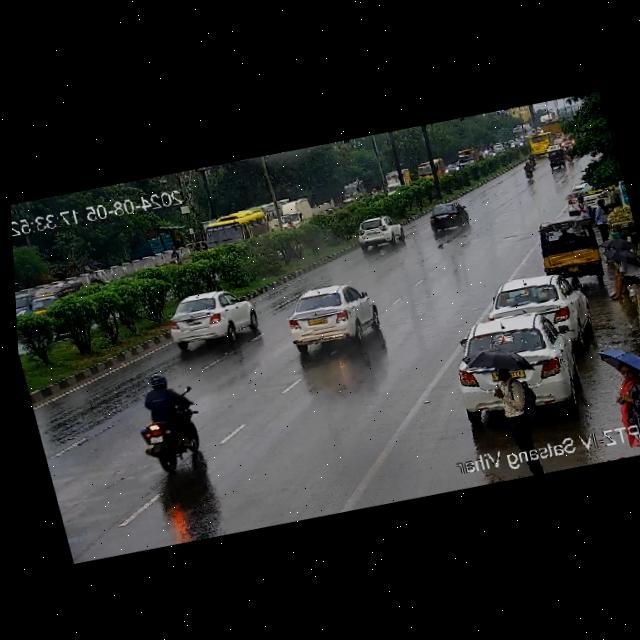bus: (200, 204, 273, 255), (415, 156, 446, 184), (529, 132, 555, 156)
car: (453, 305, 584, 410), (280, 277, 388, 362), (485, 265, 594, 346), (157, 281, 265, 355), (529, 210, 607, 281), (25, 274, 89, 317), (558, 173, 620, 215), (349, 212, 404, 252), (425, 198, 471, 234), (544, 145, 568, 170), (15, 293, 32, 321)
motorcycle: (126, 365, 216, 476), (520, 159, 535, 180), (527, 152, 538, 169)
person: (481, 353, 541, 447), (593, 247, 640, 306), (609, 360, 640, 426), (590, 193, 614, 239), (574, 192, 591, 213)
truck: (279, 195, 315, 228), (453, 146, 482, 168)
